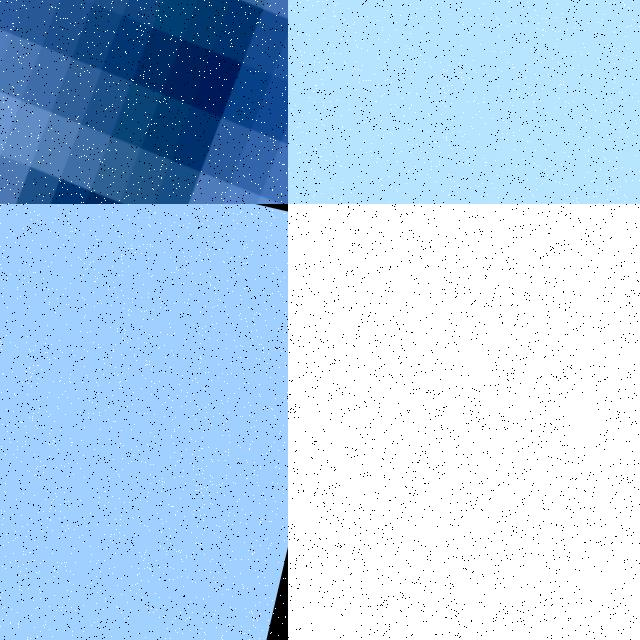drone: (0, 0, 288, 204)
